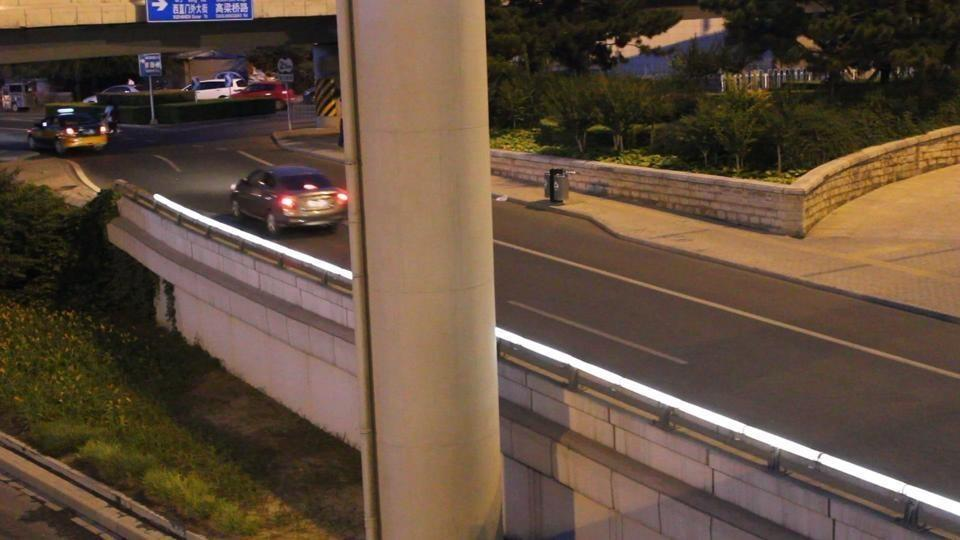car: (227, 165, 350, 236), (26, 106, 115, 155), (229, 78, 296, 104), (182, 74, 246, 99), (0, 84, 30, 113)
